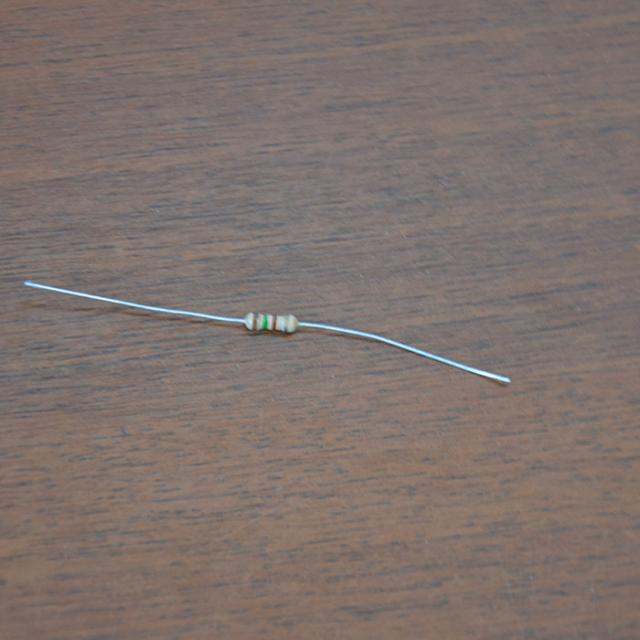brown: (253, 312, 258, 329), (272, 316, 277, 329)
gold: (283, 315, 289, 331)
green: (263, 315, 267, 329)
resistor: (236, 305, 305, 341)
